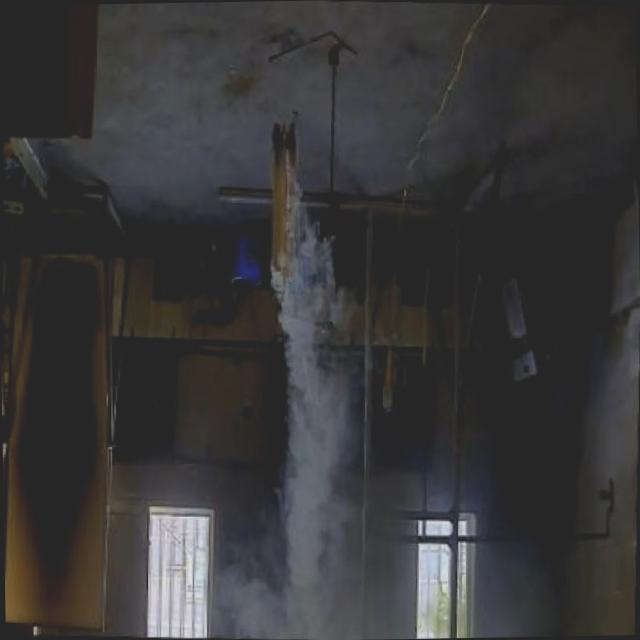smoke: (202, 156, 368, 637)
